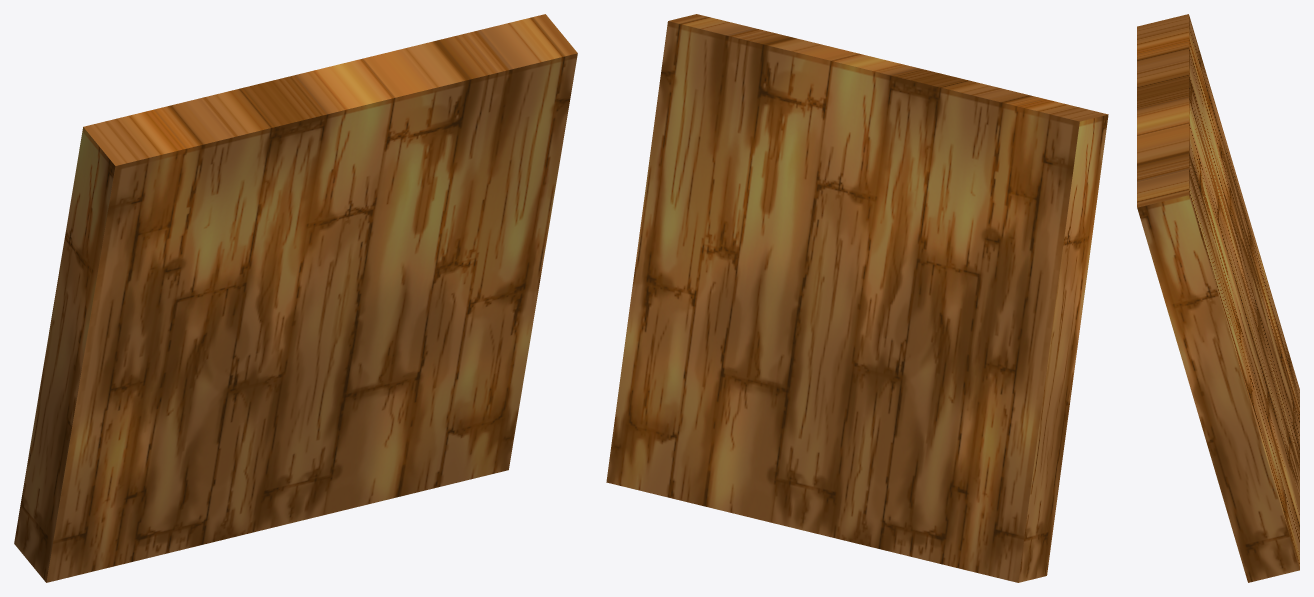
Rendered from DrawBridge4x4_Anim.FBX.
3 renders of one model, left to right at view 1: azimuth 30°, elevation 25°; view 2: azimuth 150°, elevation 25°; view 3: azimuth 270°, elevation 25°, orthographic. The views are drawn at different scales.
Visible parts, largest first — view 1: Box02; view 2: Box02; view 3: Box02.
Boxes of the visible parts, x1,y1,x2,y2 form: Box02: [14, 14, 577, 582]; Box02: [606, 14, 1108, 582]; Box02: [1137, 14, 1299, 582].
Bounding box in the file's own units: 400 × 399 × 152.
Materials: 1 (1 with a texture image).
